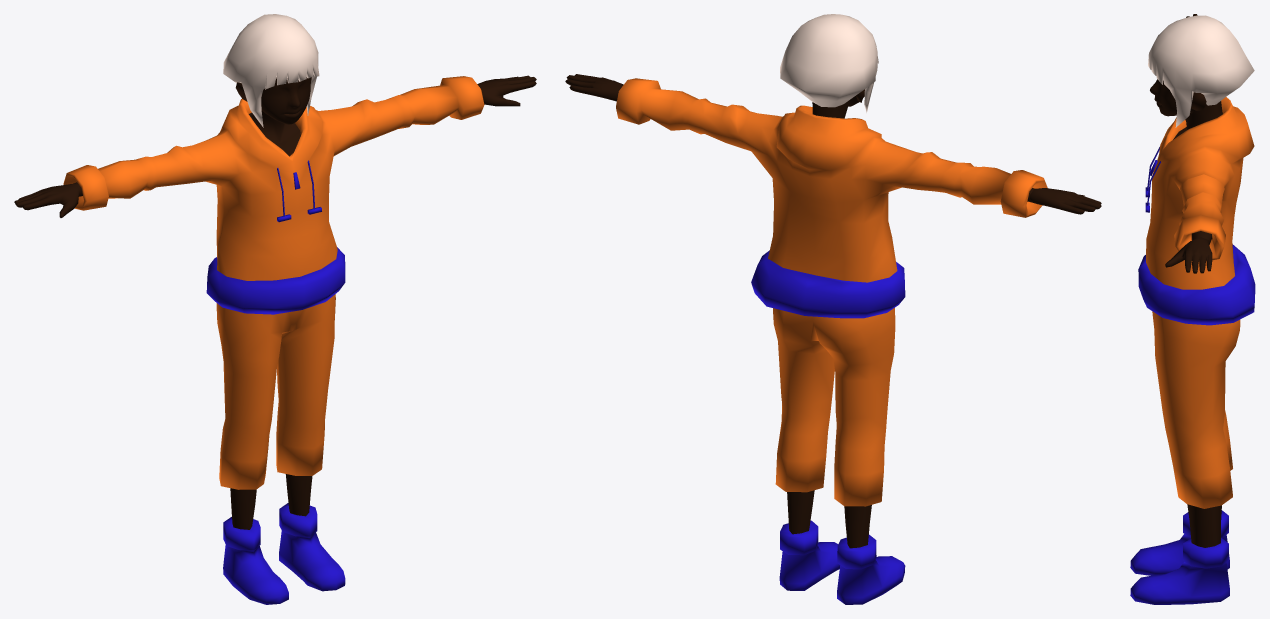
File: hinata.obj
The picture shows the model from 3 angles, left to right: view 1: azimuth 30°, elevation 25°; view 2: azimuth 150°, elevation 25°; view 3: azimuth 270°, elevation 25°; orthographic projection. The views are drawn at different scales.
Parts seen in each view (by area): view 1: Mesh_3, Mesh_4, Mesh_6, Mesh_2; view 2: Mesh_3, Mesh_4, Mesh_2, Mesh_6; view 3: Mesh_3, Mesh_4, Mesh_2, Mesh_6.
Part boxes in pixels (x1,y1,x2,y2): Mesh_3: (63, 76, 484, 489); Mesh_4: (206, 160, 345, 604); Mesh_6: (14, 75, 536, 529); Mesh_2: (223, 14, 319, 127); Mesh_3: (616, 78, 1047, 506); Mesh_4: (751, 250, 905, 604); Mesh_2: (780, 14, 878, 112); Mesh_6: (565, 74, 1101, 548); Mesh_3: (1146, 97, 1254, 508); Mesh_4: (1130, 147, 1255, 604); Mesh_2: (1148, 15, 1254, 127); Mesh_6: (1150, 14, 1222, 547).
Size of the model in its own units: 0.4613 by 0.4699 by 0.0947.
